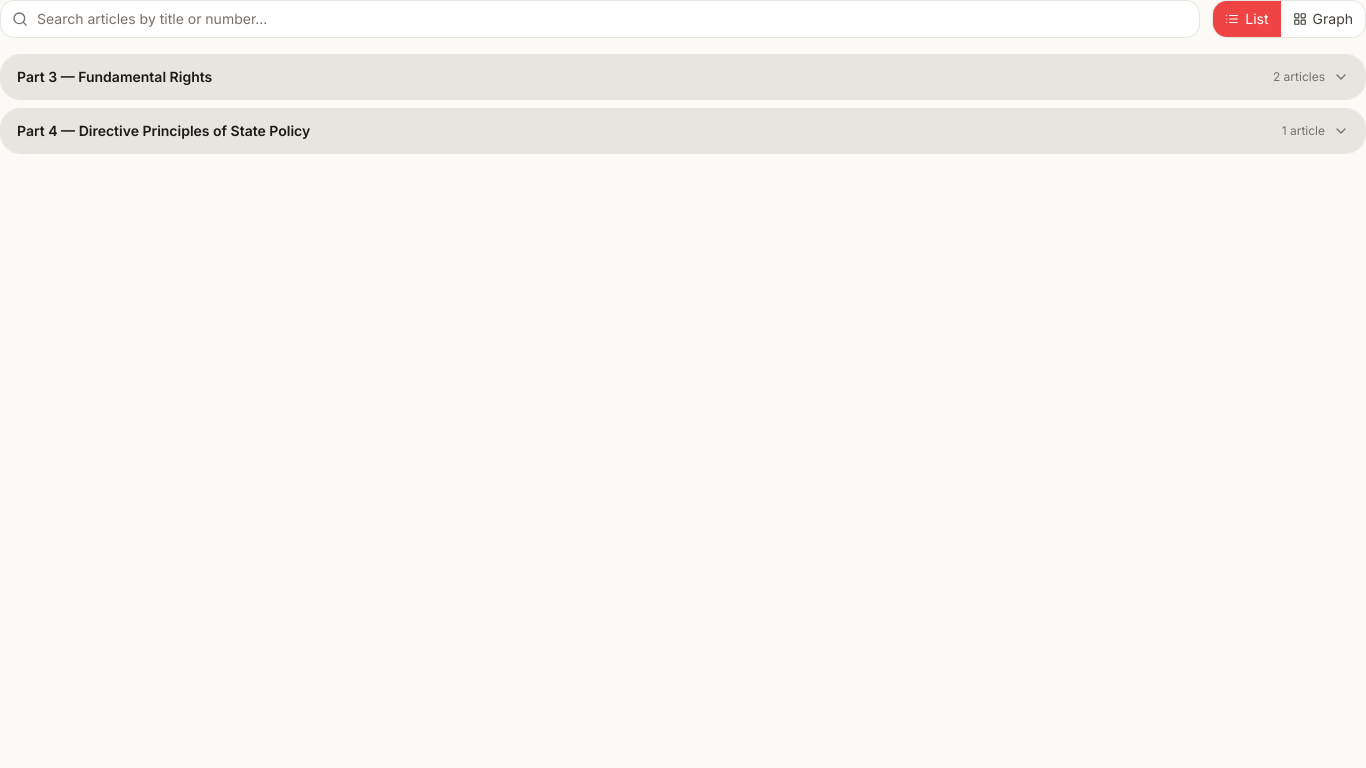
Test: ArticleExplorer › opens detail panel when clicking an article
Click the button "Part 3 — Fundamental Rights 2 articles": (33, 76) [1, 55, 1365, 99]
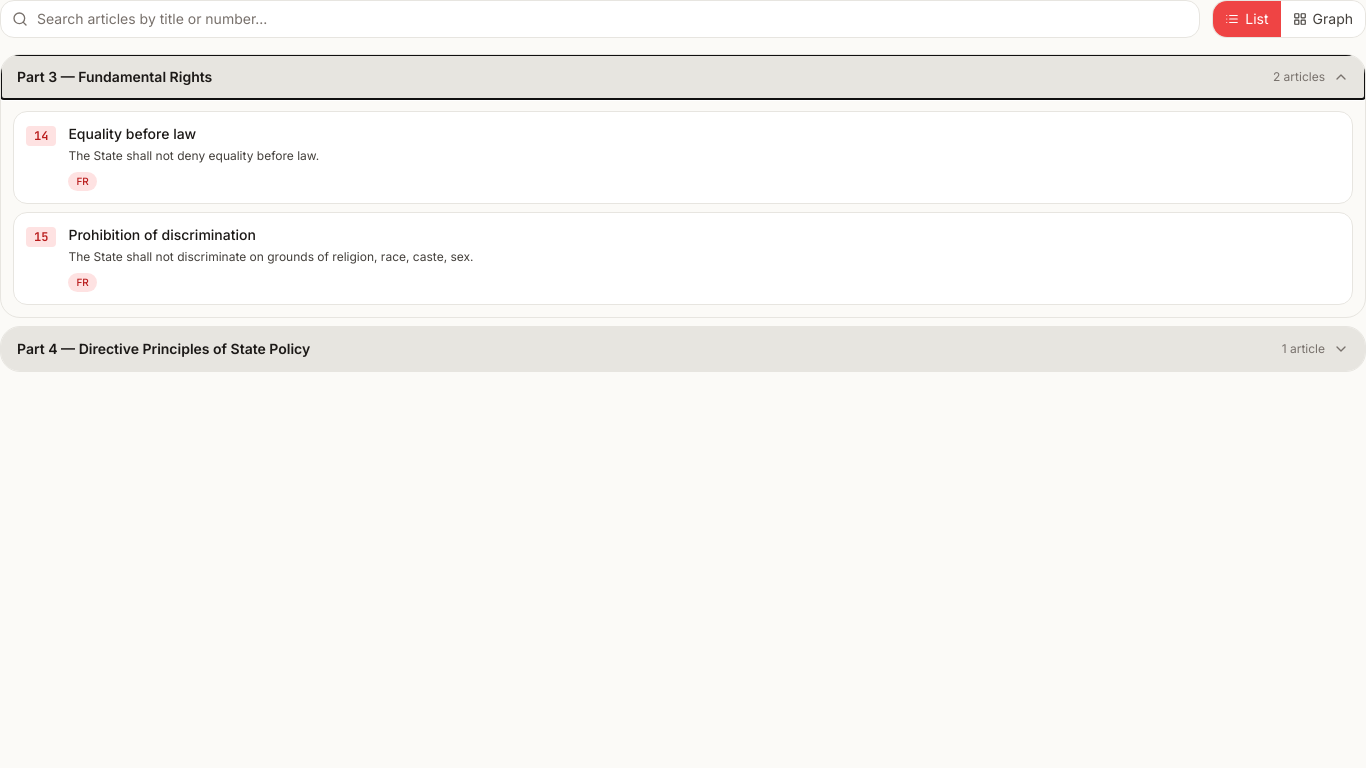
Click the button "Equality before law": (41, 136) [13, 111, 1353, 204]
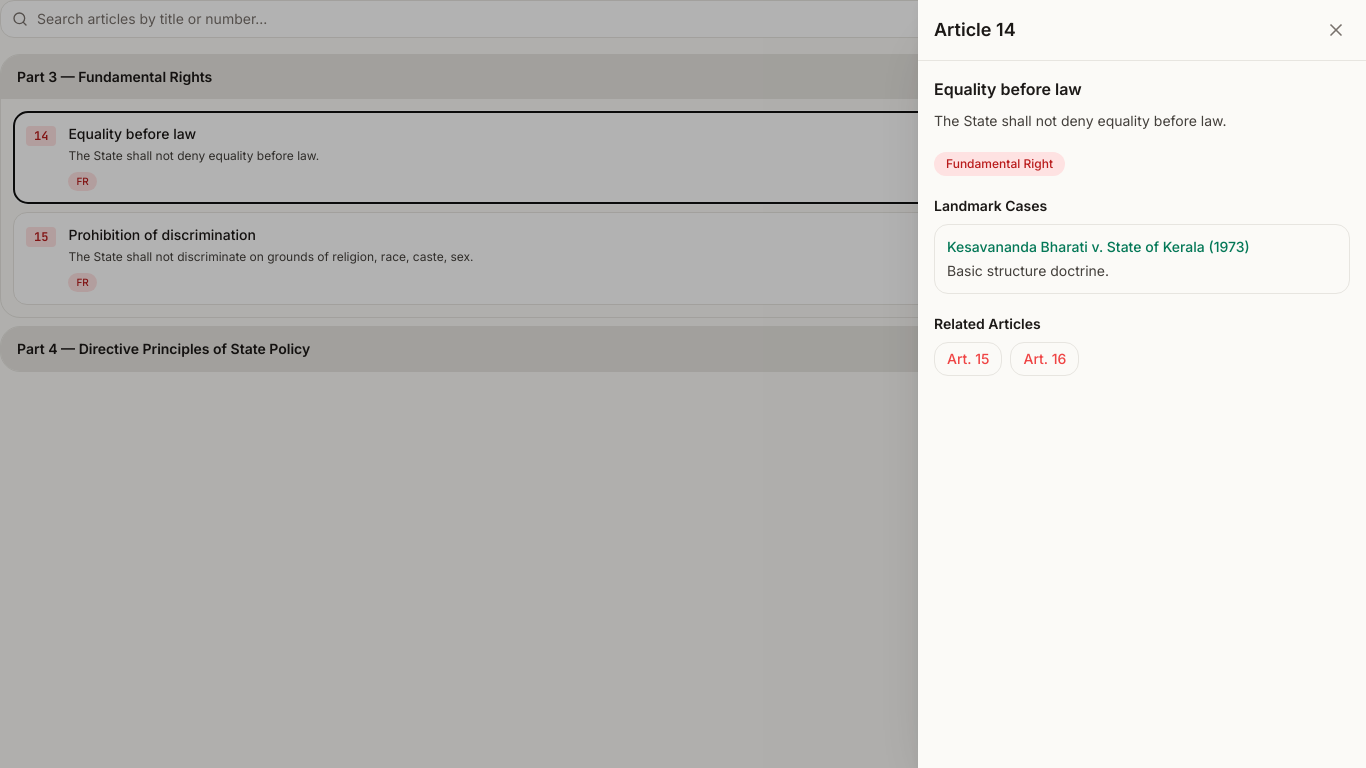
Expected: the dialog is shown, [918, 0, 1365, 767]
Expected: the heading "Article 14" is shown, [934, 16, 1016, 44]
